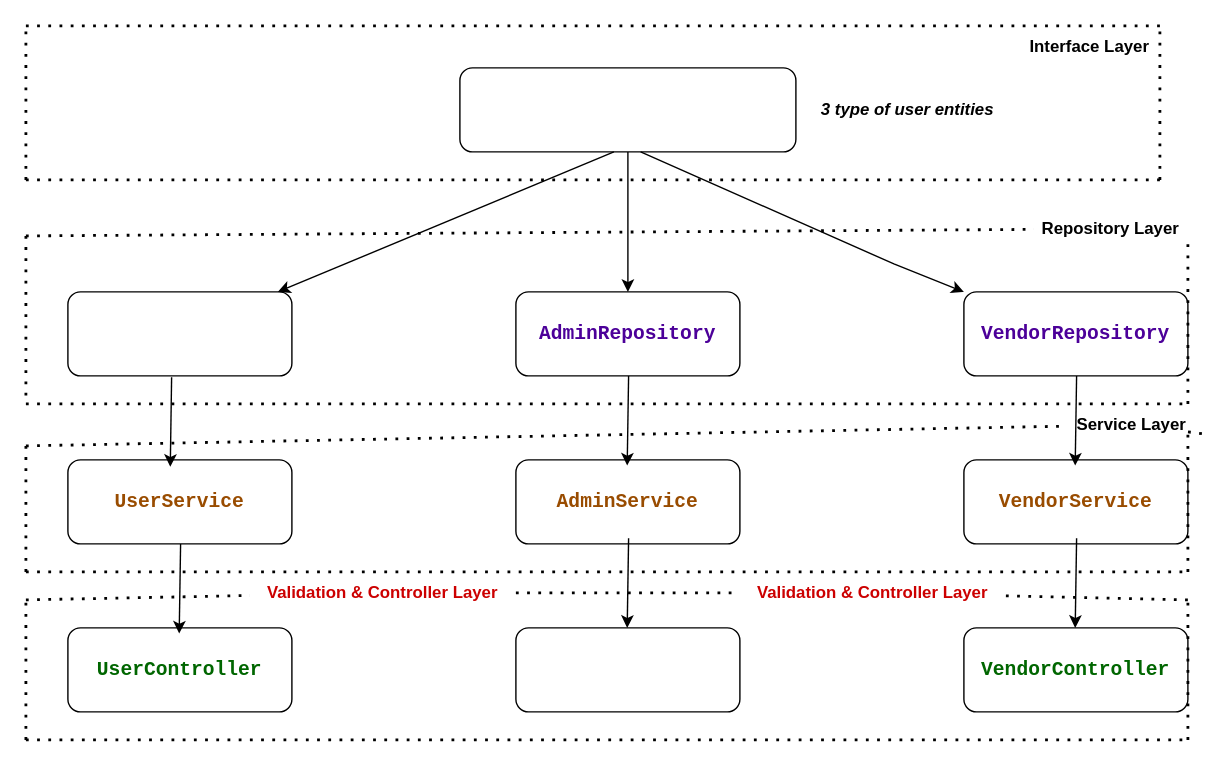
Some shapes in this 1228 by 766 pixel diagram are drawn without their labels. The box of each missing label's shape, as (x1, y1, x2, y2) in pixels:
AdminController: (514, 626, 740, 712)
UserInterface: (458, 66, 796, 152)
UserRepository: (66, 290, 292, 376)
